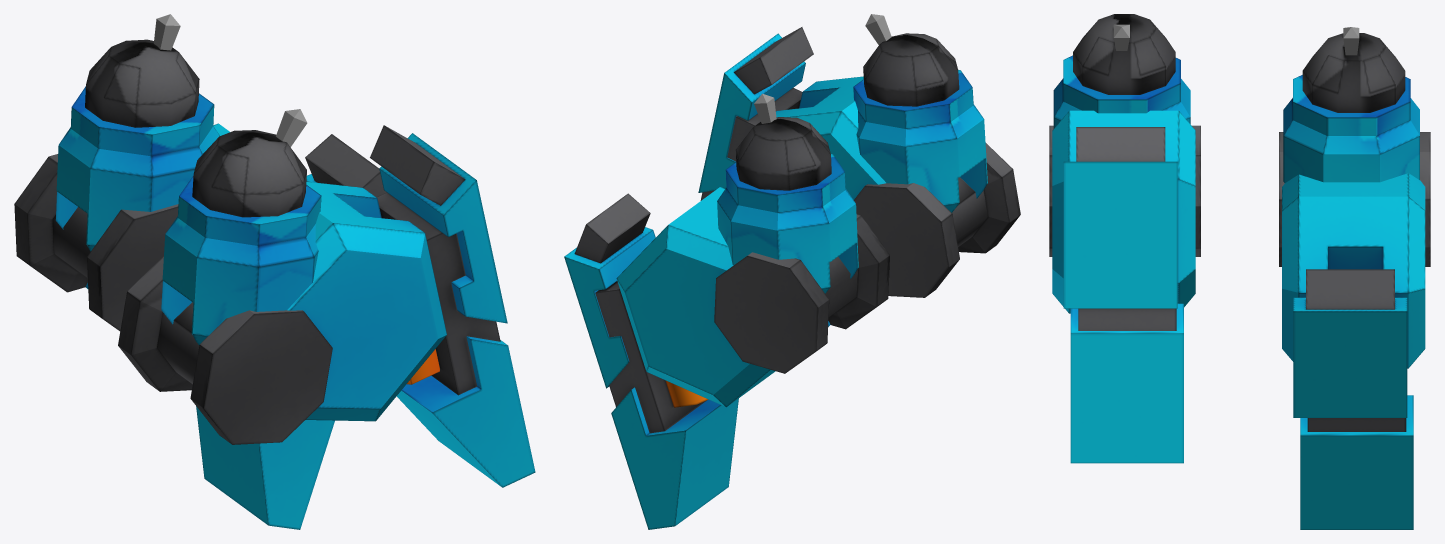
Rendered from Bottom_Running6.obj.
3 renders of one model, left to right at view 1: azimuth 30°, elevation 25°; view 2: azimuth 150°, elevation 25°; view 3: azimuth 270°, elevation 25°, orthographic. The views are drawn at different scales.
Parts seen in each view (by area): view 1: Object013, Object014, Object012, Object009, Object010, Object011, Bone023, Bone006; view 2: Object010, Object011, Object013, Object012, Object009, Object014, Bone023; view 3: Object014, Object011, Object010, Object009, Object012, Object013.
Boxes of the visible parts, x1=… form: Object013: x1=118, y1=181, x2=446, y2=444; Object014: x1=370, y1=125, x2=535, y2=487; Object012: x1=161, y1=130, x2=321, y2=345; Object009: x1=55, y1=39, x2=219, y2=251; Object010: x1=14, y1=123, x2=229, y2=331; Object011: x1=196, y1=134, x2=386, y2=529; Bone023: x1=276, y1=109, x2=307, y2=147; Bone006: x1=153, y1=14, x2=180, y2=50; Object010: x1=616, y1=187, x2=889, y2=407; Object011: x1=564, y1=193, x2=738, y2=529; Object013: x1=776, y1=76, x2=1020, y2=297; Object012: x1=853, y1=33, x2=987, y2=212; Object009: x1=717, y1=117, x2=858, y2=293; Object014: x1=698, y1=27, x2=813, y2=200; Bone023: x1=865, y1=14, x2=891, y2=44; Object014: x1=1063, y1=127, x2=1183, y2=463; Object011: x1=1293, y1=269, x2=1413, y2=529; Object010: x1=1279, y1=132, x2=1430, y2=368; Object009: x1=1283, y1=33, x2=1419, y2=182; Object012: x1=1053, y1=14, x2=1190, y2=128; Object013: x1=1049, y1=110, x2=1200, y2=313.
Size of the model in its own units: 87.31 by 126 by 94.84.
